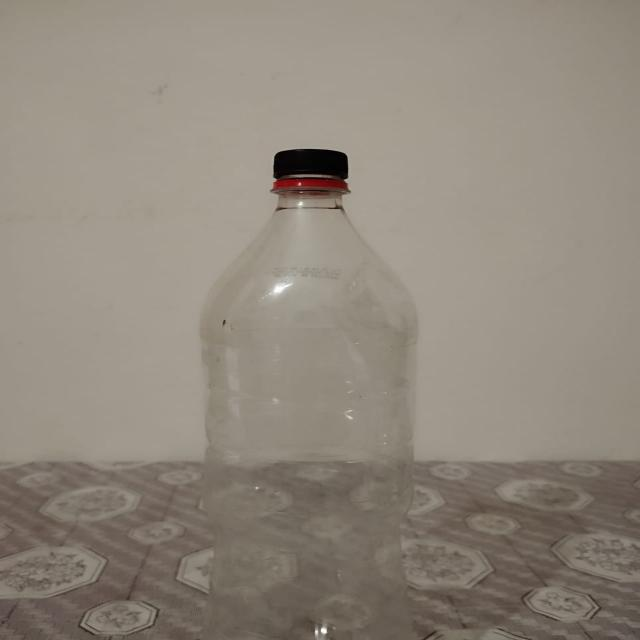bottle: (206, 147, 418, 640)
cap: (273, 147, 350, 189)
